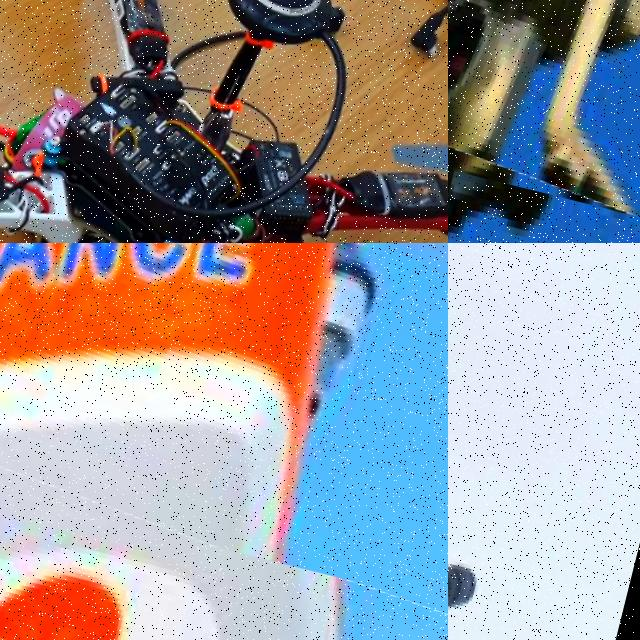drone: (0, 243, 448, 624), (0, 0, 448, 243), (448, 0, 640, 243)
